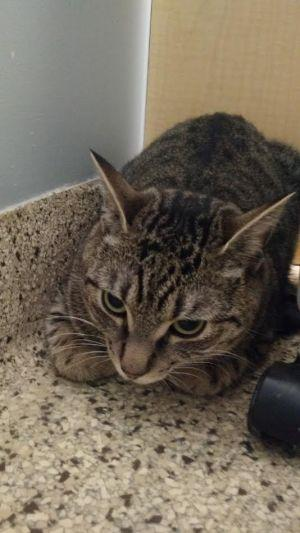bengal: (56, 135, 300, 397)
